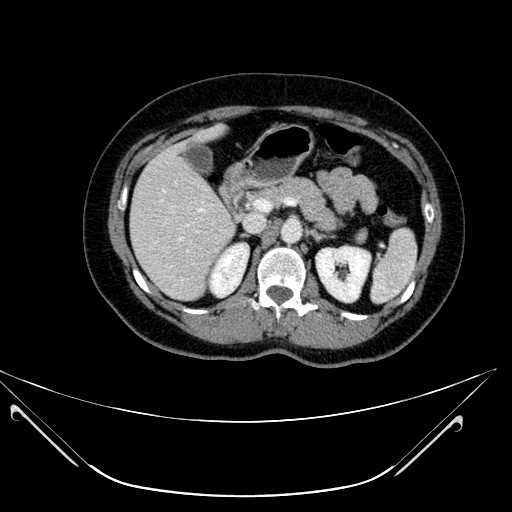vesicula: (186, 139, 216, 179)
